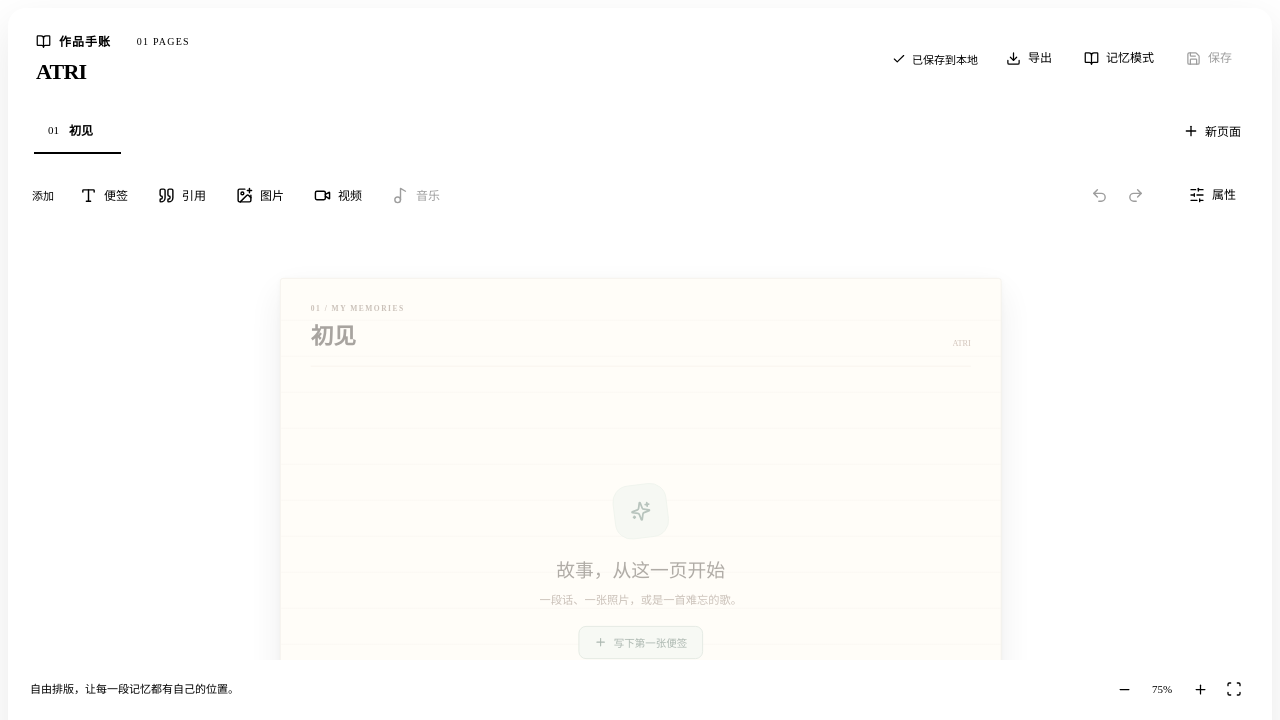
Test: keeps small-window editing readable, preserves manual zoom and offers whole-paper fit
Expected: the field named "手账页面标题" is shown, [311,322,932,351]
Expected: the text named "画布缩放" reads "75%", [1152,683,1172,695]
Click the button named "放大画布": (1200, 689) [1184,673,1216,705]
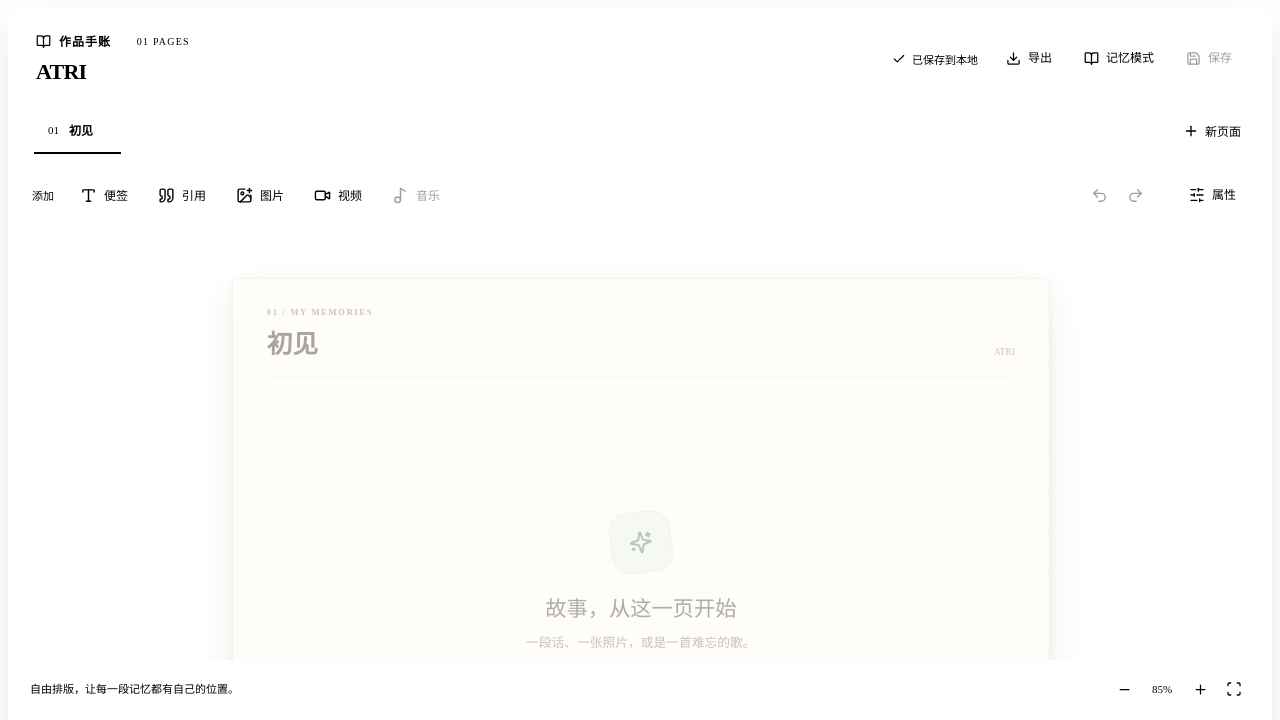
Expected: the text named "画布缩放" reads "85%", [1152,683,1172,695]
Click the button named "适应窗口": (1234, 689) [1218,673,1250,705]
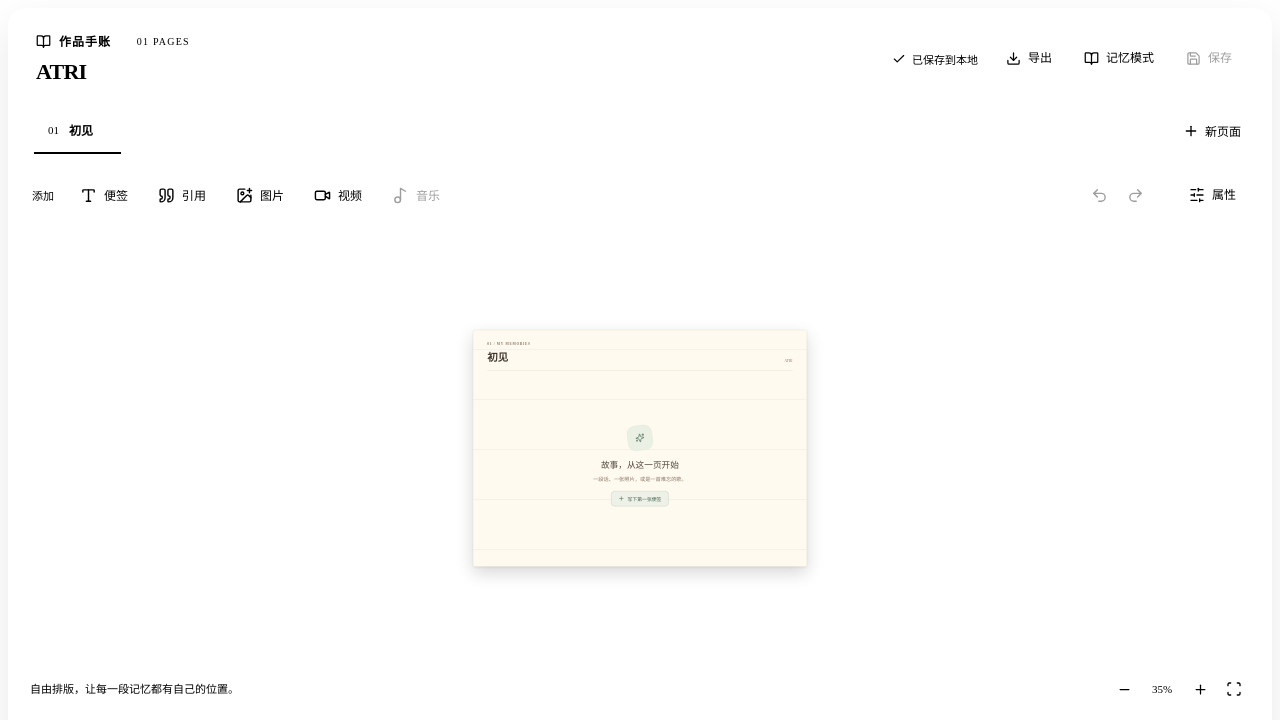
Expected: the text named "画布缩放" reads "35%", [1152,683,1172,695]
